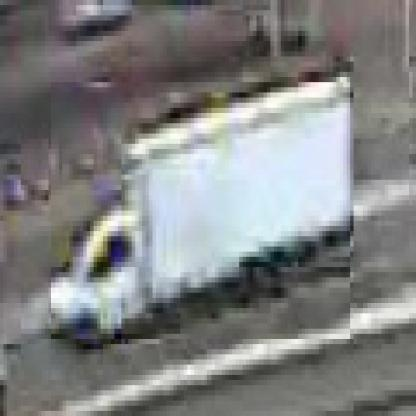truck: (50, 83, 351, 345)
